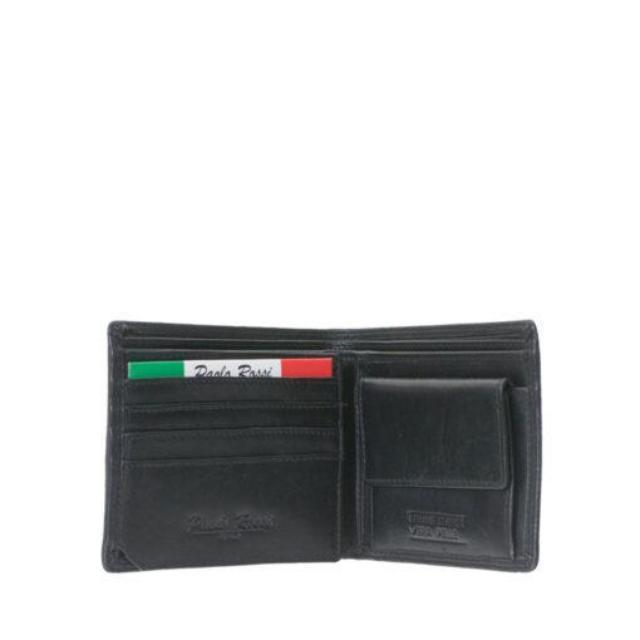wallet: (91, 309, 545, 576)
